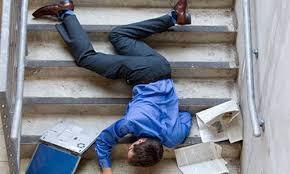fallen: (33, 1, 207, 173)
